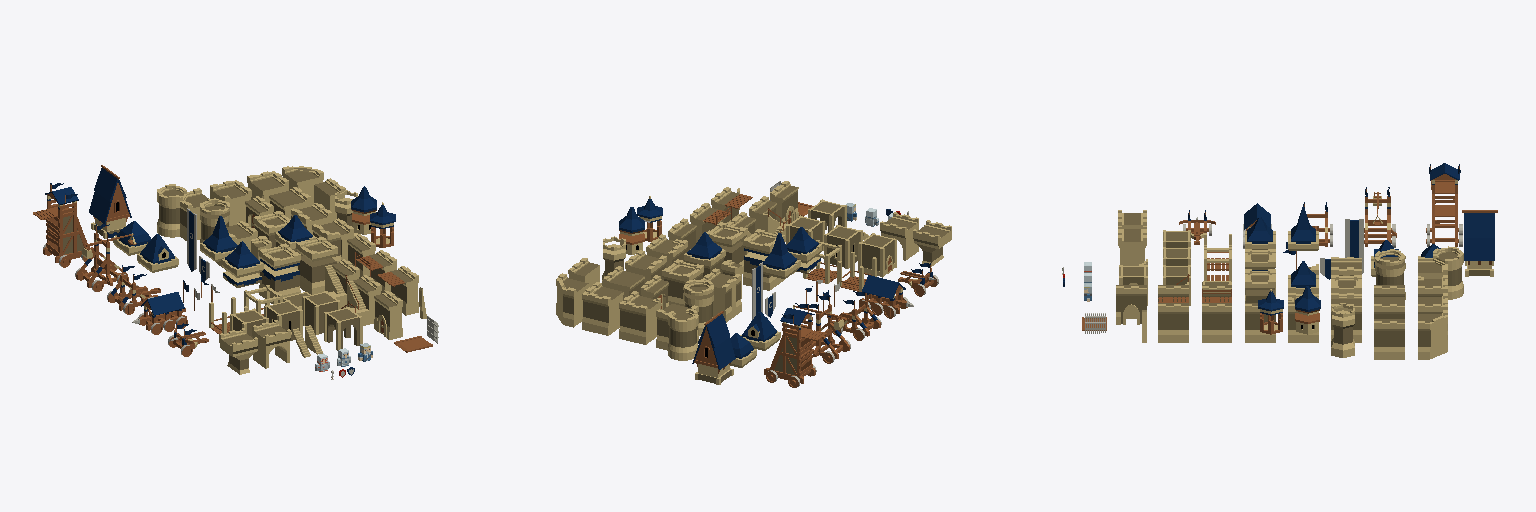
3 views of the same model, side by side, from view 1: azimuth 30°, elevation 25°; view 2: azimuth 150°, elevation 25°; view 3: azimuth 270°, elevation 25° (orthographic).
Visible parts, largest first — view 1: Mesh92 body3 siegeTower_8angles Model, Mesh149 towerSlantRoof_exclusive Model, Mesh22 wallCornerHalfTower Model, Mesh156 bridgeStraight_exclusive Model, Mesh157 bridgeStraightPole_exclusive Model, Mesh50 towerSquareArch Model, Mesh10 wallNarrowStairsFence Model, Mesh111 wallDoor Model, Mesh7 wallCorner Model, Mesh31 towerSquareMid Model, Mesh64 body siegeTrebuchet_8angles Model, Mesh27 towerSquareBaseColor Model (+26 smaller); view 2: Mesh92 body3 siegeTower_8angles Model, Mesh149 towerSlantRoof_exclusive Model, Mesh22 wallCornerHalfTower Model, Mesh7 wallCorner Model, Mesh15 wallCornerHalf Model, Mesh145 towerSquareMidDoor_exclusive Model, Mesh28 wallPillar Model, Mesh146 wallCornerSlant_exclusive Model, Mesh157 bridgeStraightPole_exclusive Model, Mesh17 towerSquare Model, Mesh156 bridgeStraight_exclusive Model, Mesh33 towerSquareMidWindows Model (+24 smaller); view 3: Mesh149 towerSlantRoof_exclusive Model, Mesh92 body3 siegeTower_8angles Model, Mesh146 wallCornerSlant_exclusive Model, Mesh151 wallHalfModular_exclusive Model, Mesh13 wallNarrowWood Model, Mesh22 wallCornerHalfTower Model, Mesh5 wallNarrowWoodFence Model, Mesh156 bridgeStraight_exclusive Model, Mesh111 wallDoor Model, Mesh152 towerHexagonBase_exclusive Model, Mesh48 towerSquareTopRoofHigh Model, Mesh11 wallNarrow Model (+15 smaller).
Boxes of the visible parts, <box> form: Mesh92 body3 siegeTower_8angles Model: <box>43,187,93,262</box>; Mesh149 towerSlantRoof_exclusive Model: <box>89,165,131,238</box>; Mesh22 wallCornerHalfTower Model: <box>157,188,214,240</box>; Mesh156 bridgeStraight_exclusive Model: <box>252,320,290,368</box>; Mesh157 bridgeStraightPole_exclusive Model: <box>219,328,257,374</box>; Mesh50 towerSquareArch Model: <box>324,307,362,350</box>; Mesh10 wallNarrowStairsFence Model: <box>347,275,381,325</box>; Mesh111 wallDoor Model: <box>374,291,402,339</box>; Mesh7 wallCorner Model: <box>210,180,251,225</box>; Mesh31 towerSquareMid Model: <box>302,291,340,334</box>; Mesh64 body siegeTrebuchet_8angles Model: <box>76,233,127,287</box>; Mesh27 towerSquareBaseColor Model: <box>259,265,300,303</box>; Mesh92 body3 siegeTower_8angles Model: <box>764,308,815,383</box>; Mesh149 towerSlantRoof_exclusive Model: <box>692,311,735,384</box>; Mesh22 wallCornerHalfTower Model: <box>656,304,698,360</box>; Mesh7 wallCorner Model: <box>619,291,660,344</box>; Mesh15 wallCornerHalf Model: <box>582,282,623,335</box>; Mesh145 towerSquareMidDoor_exclusive Model: <box>858,233,896,277</box>; Mesh28 wallPillar Model: <box>700,268,741,322</box>; Mesh146 wallCornerSlant_exclusive Model: <box>556,273,588,327</box>; Mesh157 bridgeStraightPole_exclusive Model: <box>913,220,951,266</box>; Mesh17 towerSquare Model: <box>662,259,703,306</box>; Mesh156 bridgeStraight_exclusive Model: <box>880,212,918,260</box>; Mesh33 towerSquareMidWindows Model: <box>824,225,862,268</box>; Mesh149 towerSlantRoof_exclusive Model: <box>1462,210,1497,276</box>; Mesh92 body3 siegeTower_8angles Model: <box>1430,163,1459,246</box>; Mesh146 wallCornerSlant_exclusive Model: <box>1418,310,1447,359</box>; Mesh151 wallHalfModular_exclusive Model: <box>1374,319,1404,359</box>; Mesh13 wallNarrowWood Model: <box>1158,303,1188,342</box>; Mesh22 wallCornerHalfTower Model: <box>1418,252,1463,299</box>; Mesh5 wallNarrowWoodFence Model: <box>1202,303,1231,342</box>; Mesh156 bridgeStraight_exclusive Model: <box>1118,226,1146,265</box>; Mesh111 wallDoor Model: <box>1116,285,1146,324</box>; Mesh152 towerHexagonBase_exclusive Model: <box>1331,310,1354,357</box>; Mesh48 towerSquareTopRoofHigh Model: <box>1288,207,1318,250</box>; Mesh11 wallNarrow Model: <box>1245,303,1275,342</box>.
Bounding box in the file's own units: 10.25 × 2.64 × 14.11.
Materials: 11 (3 with a texture image).